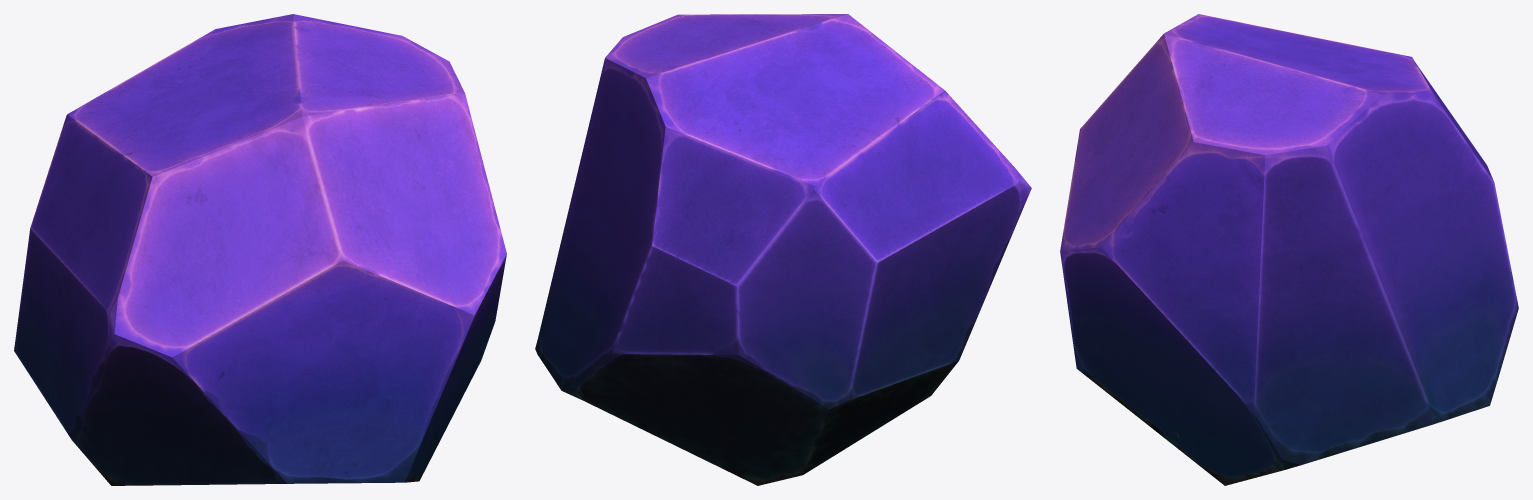
Rendered from M_rocks_06.glb.
3 renders of one model, left to right at view 1: azimuth 30°, elevation 25°; view 2: azimuth 150°, elevation 25°; view 3: azimuth 270°, elevation 25°, orthographic. The views are drawn at different scales.
Visible parts, largest first — view 1: M_Rock_06; view 2: M_Rock_06; view 3: M_Rock_06.
Boxes of the visible parts, x1=… form: M_Rock_06: x1=14, y1=14, x2=506, y2=485; M_Rock_06: x1=535, y1=14, x2=1031, y2=485; M_Rock_06: x1=1060, y1=14, x2=1518, y2=485.
Bounding box in the file's own units: 1.58 × 1.53 × 1.56.
Materials: 1 (1 with a texture image).
